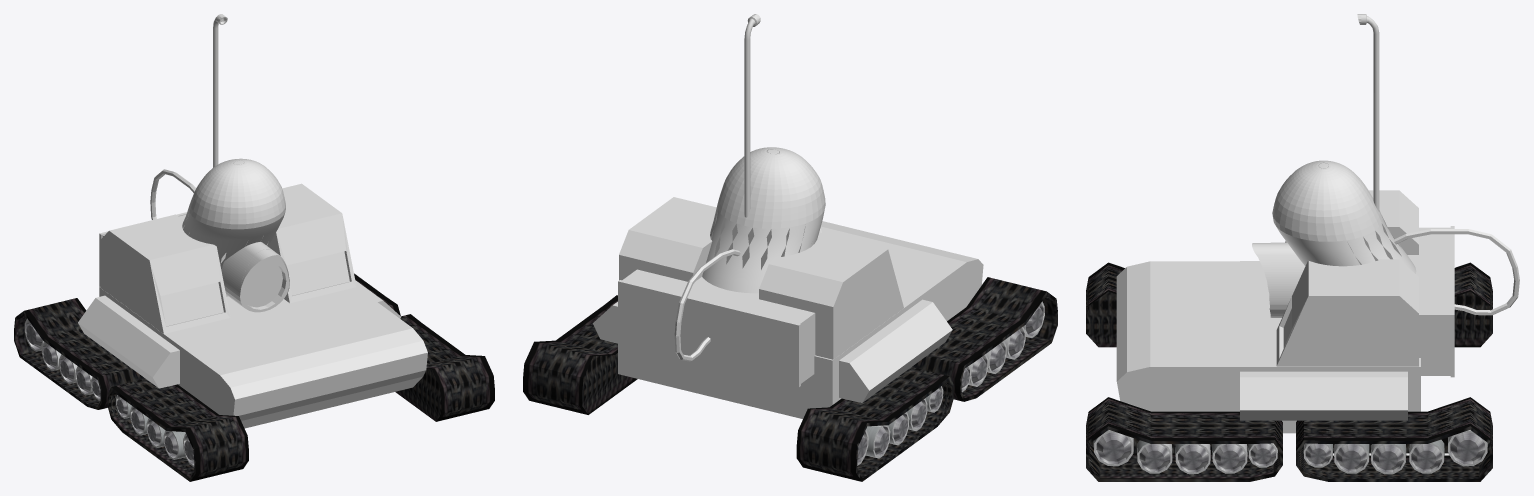
File: tank2.FBX
3 views of the same model, side by side, from view 1: azimuth 30°, elevation 25°; view 2: azimuth 150°, elevation 25°; view 3: azimuth 270°, elevation 25° (orthographic). The views are drawn at different scales.
Parts seen in each view (by area): view 1: Box004, Box003, Cylinder261, Object001, Cylinder252; view 2: Box004, Object001, Cylinder261, Box003, Cylinder257; view 3: Box004, Box003, Object001, Cylinder261, Cylinder251, Cylinder256, Cylinder257, Cylinder252, Cylinder253, Cylinder258, Cylinder259, Cylinder254 (+2 smaller).
Boxes of the visible parts, left/top/right/bottom form: Box004: left=78, top=169, right=427, bottom=428; Box003: left=107, top=314, right=494, bottom=481; Cylinder261: left=182, top=14, right=285, bottom=270; Object001: left=14, top=273, right=400, bottom=409; Cylinder252: left=163, top=430, right=185, bottom=459; Box004: left=593, top=197, right=983, bottom=418; Object001: left=523, top=295, right=953, bottom=481; Cylinder261: left=702, top=14, right=825, bottom=293; Box003: left=912, top=277, right=1057, bottom=401; Cylinder257: left=866, top=425, right=890, bottom=458; Box004: left=1116, top=190, right=1519, bottom=433; Box003: left=1086, top=262, right=1282, bottom=481; Object001: left=1296, top=262, right=1492, bottom=481; Cylinder261: left=1272, top=14, right=1416, bottom=273; Cylinder251: left=1093, top=430, right=1133, bottom=466; Cylinder256: left=1448, top=430, right=1487, bottom=466; Cylinder257: left=1409, top=439, right=1444, bottom=473; Cylinder252: left=1137, top=440, right=1172, bottom=473; Cylinder253: left=1175, top=444, right=1210, bottom=474; Cylinder258: left=1371, top=444, right=1406, bottom=474; Cylinder259: left=1334, top=444, right=1369, bottom=473; Cylinder254: left=1212, top=444, right=1247, bottom=473.
Bounding box in the file's own units: 66.58 × 73.12 × 74.58.
2 materials, 2 textured.
